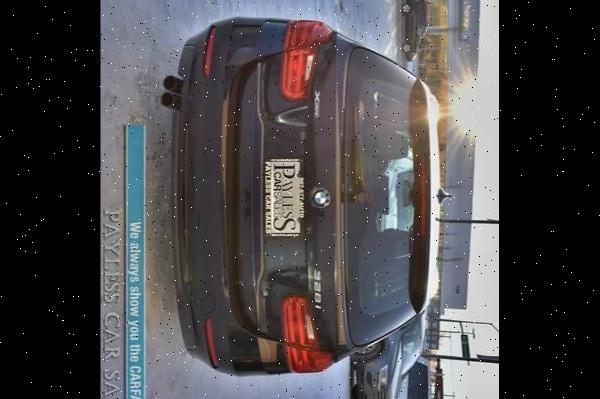Left_Taillight: (278, 14, 333, 97)
Rear_Bumper: (173, 14, 289, 375)
Rear_Windshield: (343, 47, 429, 344)
Right_Taillight: (281, 294, 334, 373)
Tailgate: (235, 29, 359, 359)
